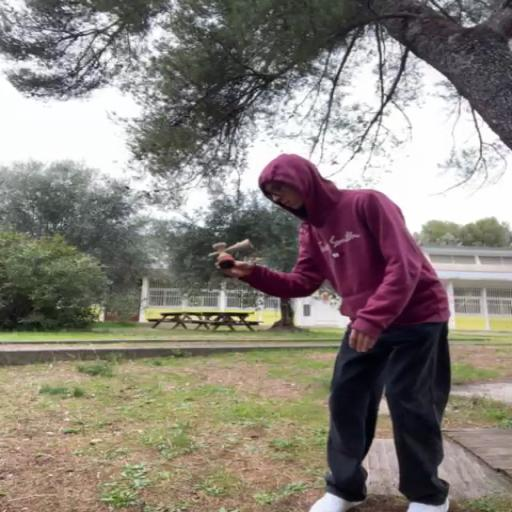kendama_ball: (218, 256, 236, 270)
